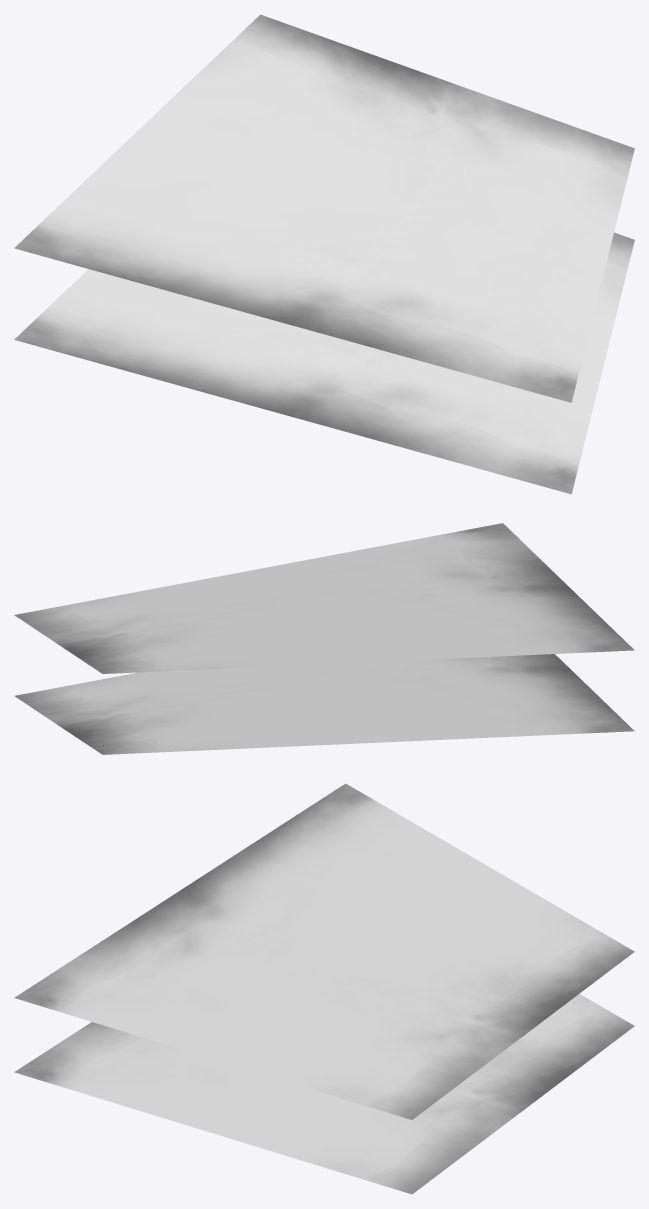
The model's file is CourseWinter_CurveFloor_4_3.fbx.
3 renders of one model, top to bottom at view 1: azimuth 30°, elevation 25°; view 2: azimuth 150°, elevation 25°; view 3: azimuth 270°, elevation 25°, orthographic. The views are drawn at different scales.
Visible parts, largest first — view 1: polySurface645; view 2: polySurface645; view 3: polySurface645.
Boxes of the visible parts, box(x1,y1,x2,y2) form: polySurface645: box(14, 14, 634, 494); polySurface645: box(14, 523, 634, 754); polySurface645: box(14, 783, 634, 1194).
Bounding box in the file's own units: 7.57 × 2 × 7.57.
Materials: 1 (1 with a texture image).
